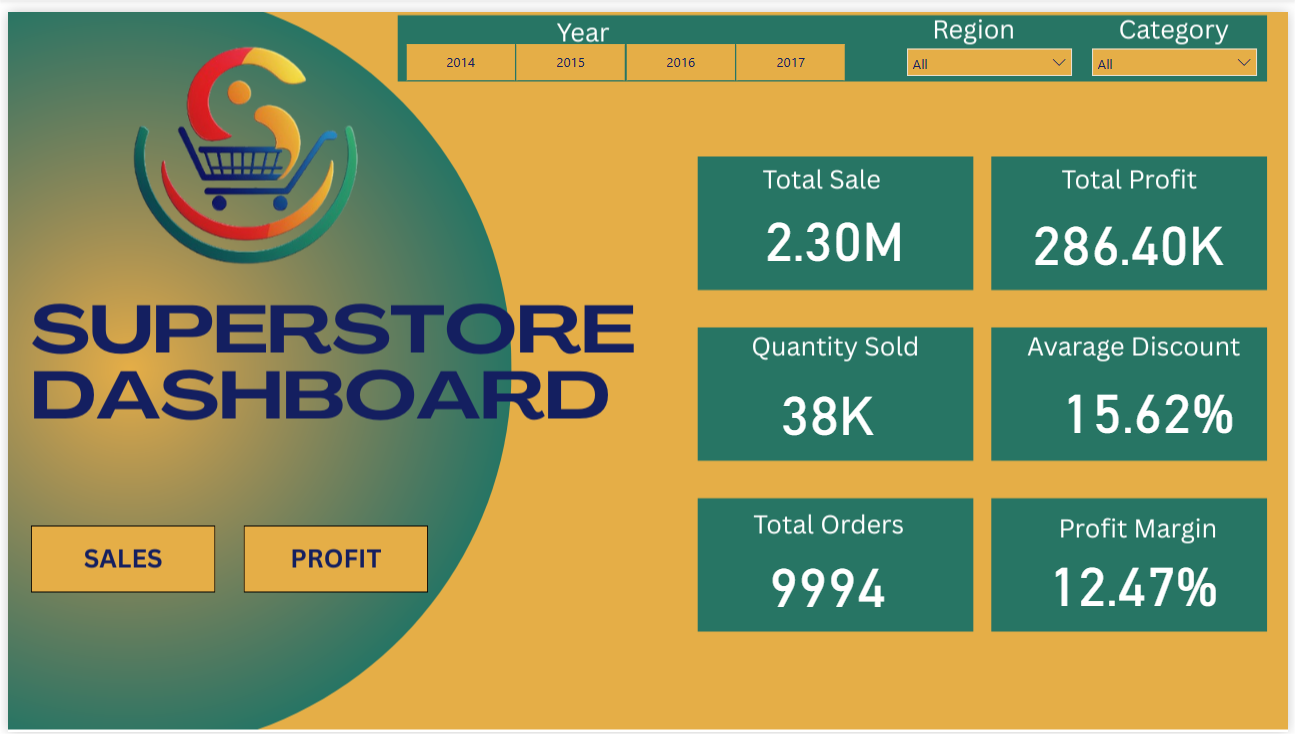

Layout of this report page (visuals, bound fields, positions):
{"tool":"powerbi","page":{"name":"Home","canvas":[1280,720],"ordinal":0},"visuals":[{"type":"card","fields":{"Values":["Sum(Sample.Sales)"]},"box":[718.6,181.4,215.1,84.9],"z":0},{"type":"card","fields":{"Values":["Sum(Sample.Profit)"]},"box":[1016.3,187.2,208.1,79.1],"z":1000},{"type":"card","fields":{"Values":["Sum(Sample.Quantity)"]},"box":[716.3,355.8,207,81.4],"z":2000},{"type":"card","fields":{"Values":["Sample.Avarage Discount"]},"box":[1033.7,360.5,212.8,70.9],"z":3000},{"type":"card","fields":{"Values":["Sample.Total orders"]},"box":[704.7,520.9,229.1,95.3],"z":4000},{"type":"card","fields":{"Values":["Sample.profit margin"]},"box":[1016.3,529.1,218.6,79.1],"z":5000},{"type":"slicer","fields":{"Values":["Sample.Category"]},"box":[1073.3,26.7,184.9,37.2],"z":6000},{"type":"slicer","fields":{"Values":["Sample.Region"]},"box":[888.4,26.7,184.9,47.7],"z":7000},{"type":"slicer","fields":{"Values":["year table.Year"]},"box":[372.1,24.4,488.4,50],"z":8000},{"type":"actionButton","box":[25,521.2,182.5,58.8],"z":8001},{"type":"actionButton","box":[238.8,521.2,178.8,47.5],"z":8002}]}

Visuals, with their boxes in screenshot pixels (x1, y1, x2, y2), scaled from the page's 1280x720 canvas onto the 1295x734 screenshot:
card - Sum(Sample.Sales): 727/185/945/271
card - Sum(Sample.Profit): 1028/191/1239/271
card - Sum(Sample.Quantity): 725/363/934/446
card - Sample.Avarage Discount: 1046/368/1261/440
card - Sample.Total orders: 713/531/945/628
card - Sample.profit margin: 1028/539/1249/620
slicer - Sample.Category: 1086/27/1273/65
slicer - Sample.Region: 899/27/1086/76
slicer - year table.Year: 376/25/871/76
actionButton: 25/531/210/591
actionButton: 242/531/422/580
